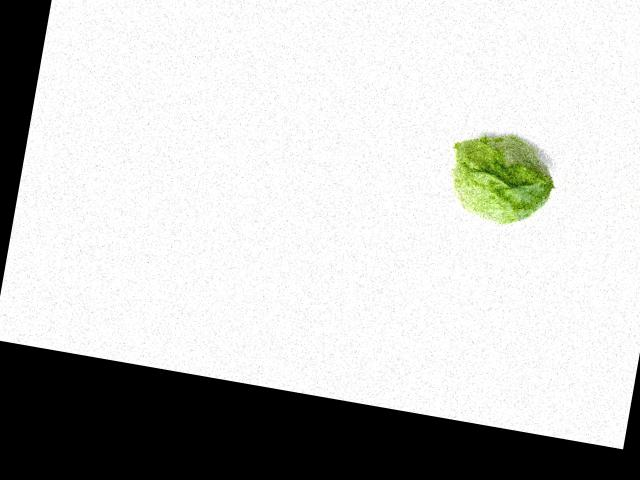lettuce: (442, 121, 560, 237)
